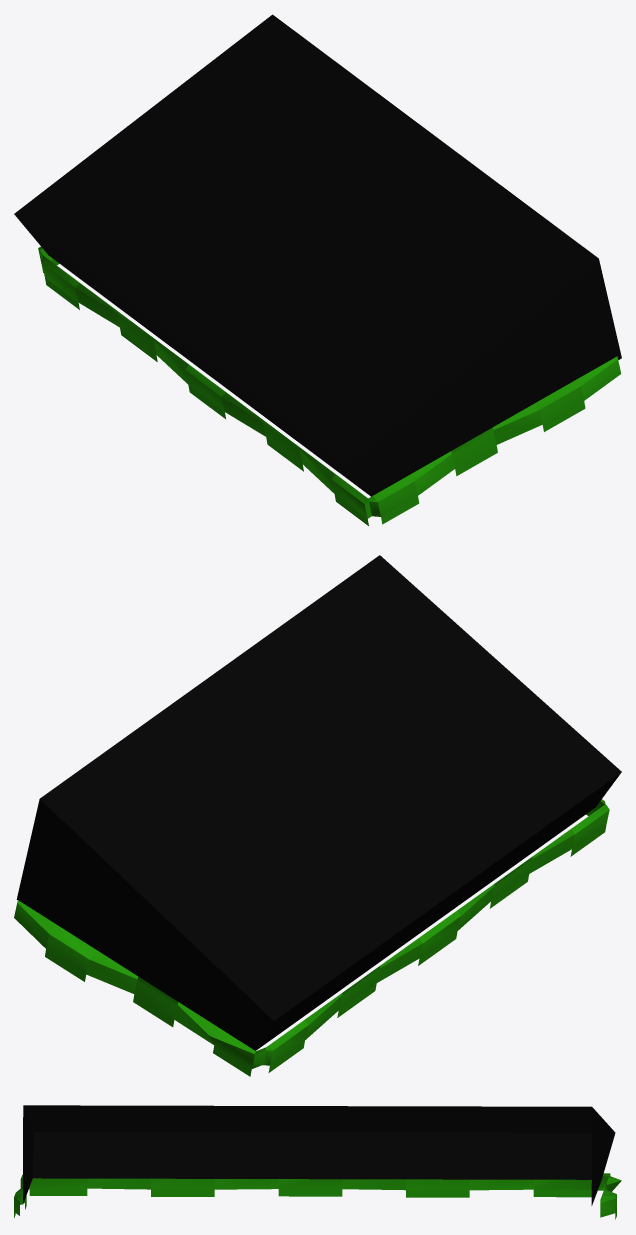
The model's file is Awning01_KW.fbx.
3 views of the same model, one above another, from view 1: azimuth 30°, elevation 25°; view 2: azimuth 150°, elevation 25°; view 3: azimuth 270°, elevation 25° (orthographic). The views are drawn at different scales.
Visible parts, largest first — view 1: Awning01_KW; view 2: Awning01_KW; view 3: Awning01_KW.
Boxes of the visible parts, x1,y1,x2,y2 form: Awning01_KW: [14, 14, 621, 525]; Awning01_KW: [14, 555, 621, 1076]; Awning01_KW: [14, 1105, 621, 1219].
Size of the model in its own units: 182 by 138 by 409.
